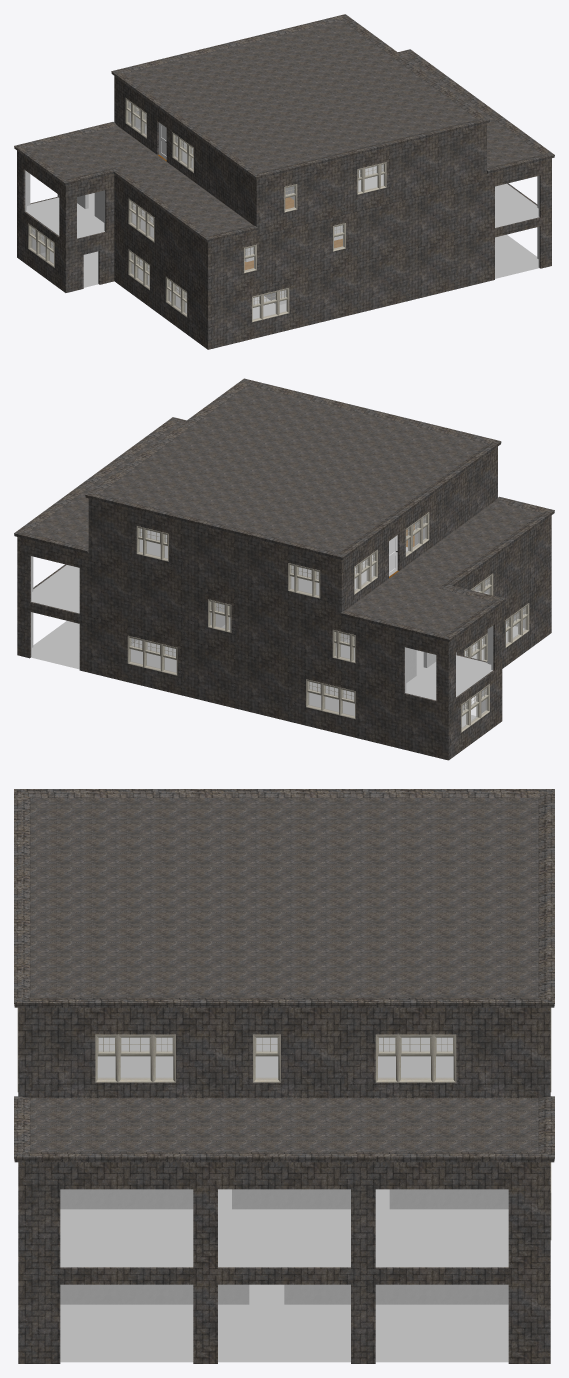
File: PlayersHouse.fbx
The picture shows the model from 3 angles, top to bottom: view 1: azimuth 30°, elevation 25°; view 2: azimuth 150°, elevation 25°; view 3: azimuth 270°, elevation 25°; orthographic projection. The views are drawn at different scales.
Parts seen in each view (by area): view 1: Roof (×2), Outside Plain Wall (Floor 1), Outside Plain Wall (Floor 2), Outside Plain Wall (Floor 3), Roof Lips Plain (Floor 3), Roof Lips Plain (Floor 2), Outside Plain RoofWall (Floor 3), Outside Plain RoofWall (Floor 2), Room (7) Bottom, Room (6) Bottom, Room (4) Bottom, FancyWindow_stretched (×2) (+3 smaller); view 2: Roof (×2), Outside Plain Wall (Floor 2), Outside Plain Wall (Floor 1), Outside Plain Wall (Floor 3), Roof Lips Plain (Floor 3), Roof Lips Plain (Floor 2), FancyWindow_stretched (×6), Outside Plain RoofWall (Floor 3), Outside Plain RoofWall (Floor 2), Room (7) Bottom, Room (4) Bottom, Room (6) Bottom (+4 smaller); view 3: Roof (×2), Outside Plain Wall (Floor 3), Room (4) Bottom, Room (6) Bottom, Outside Plain Wall (Floor 2), Outside Plain Wall (Floor 1), Roof Lips Plain (Floor 3), FancyWindow_stretched (×7), Roof Lips Plain (Floor 2), Room (6) Walls, Room (4) Walls, Outside Plain RoofWall (Floor 2) (+4 smaller).
Boxes of the visible parts, x1=… form: Roof (×2): x1=26, y1=20, x2=542, y2=235; Outside Plain Wall (Floor 1): x1=17, y1=207, x2=551, y2=349; Outside Plain Wall (Floor 2): x1=17, y1=156, x2=551, y2=298; Outside Plain Wall (Floor 3): x1=114, y1=81, x2=486, y2=235; Roof Lips Plain (Floor 3): x1=111, y1=14, x2=489, y2=179; Roof Lips Plain (Floor 2): x1=14, y1=49, x2=554, y2=242; Outside Plain RoofWall (Floor 3): x1=114, y1=76, x2=486, y2=184; Outside Plain RoofWall (Floor 2): x1=17, y1=151, x2=551, y2=247; Room (7) Bottom: x1=25, y1=197, x2=104, y2=238; Room (6) Bottom: x1=495, y1=183, x2=539, y2=227; Room (4) Bottom: x1=495, y1=234, x2=538, y2=278; FancyWindow_stretched (×2): x1=262, y1=163, x2=379, y2=319; Roof (×2): x1=27, y1=385, x2=541, y2=634; Outside Plain Wall (Floor 2): x1=17, y1=521, x2=551, y2=704; Outside Plain Wall (Floor 1): x1=17, y1=577, x2=551, y2=760; Outside Plain Wall (Floor 3): x1=88, y1=452, x2=497, y2=622; Roof Lips Plain (Floor 3): x1=85, y1=378, x2=501, y2=560; Roof Lips Plain (Floor 2): x1=14, y1=417, x2=554, y2=642; FancyWindow_stretched (×6): x1=127, y1=527, x2=339, y2=715; Outside Plain RoofWall (Floor 3): x1=88, y1=447, x2=497, y2=566; Outside Plain RoofWall (Floor 2): x1=17, y1=515, x2=551, y2=648; Room (7) Bottom: x1=405, y1=655, x2=492, y2=700; Room (4) Bottom: x1=31, y1=621, x2=79, y2=669; Room (6) Bottom: x1=31, y1=565, x2=79, y2=613; Roof (×2): x1=30, y1=798, x2=538, y2=1152; Outside Plain Wall (Floor 3): x1=18, y1=1019, x2=550, y2=1098; Room (4) Bottom: x1=60, y1=1303, x2=508, y2=1362; Room (6) Bottom: x1=60, y1=1208, x2=508, y2=1267; Outside Plain Wall (Floor 2): x1=18, y1=1173, x2=550, y2=1268; Outside Plain Wall (Floor 1): x1=18, y1=1268, x2=550, y2=1363; Roof Lips Plain (Floor 3): x1=14, y1=789, x2=554, y2=1007; FancyWindow_stretched (×7): x1=95, y1=1034, x2=456, y2=1082; Roof Lips Plain (Floor 2): x1=14, y1=1096, x2=554, y2=1162; Room (6) Walls: x1=60, y1=1189, x2=508, y2=1209; Room (4) Walls: x1=60, y1=1284, x2=508, y2=1304; Outside Plain RoofWall (Floor 2): x1=18, y1=1162, x2=550, y2=1173.
Size of the model in its own units: 24.44 by 9.56 by 15.44.
